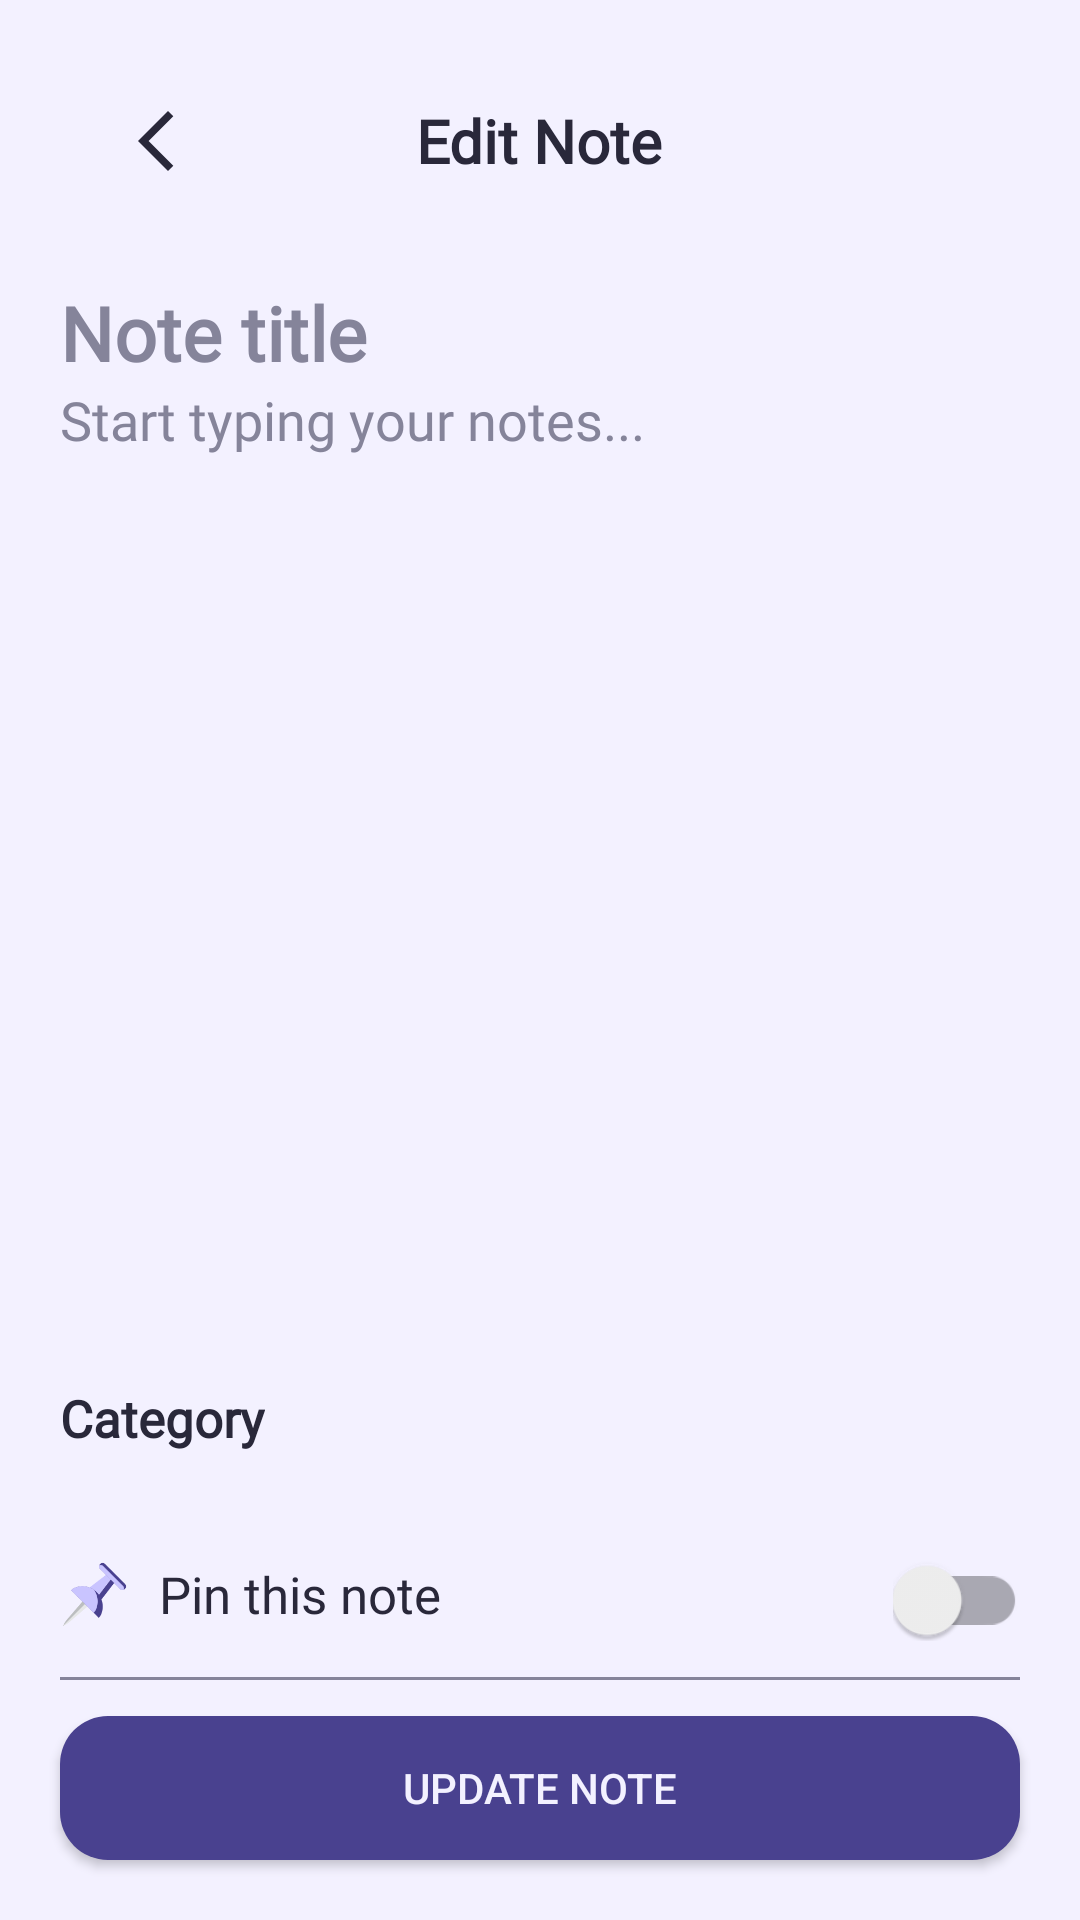

Screen size 1080px x 1920px. Icon name, then its center in pixels as (x=x, y=y):
arrow back: (x=155, y=141)
